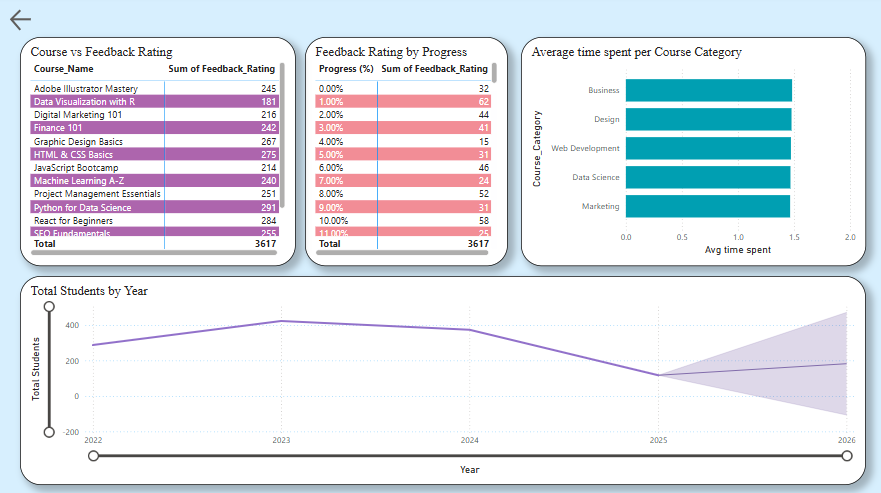

What the dashboard file says about the page in this screenshot:
{"tool":"powerbi","page":{"name":"Ratings","canvas":[1280,720],"ordinal":2},"visuals":[{"type":"clusteredBarChart","title":"Average time spent per Course Category","fields":{"Y":["Sheet1.Avg time spent"],"Category":["Sheet1.Course_Category"]},"box":[753.1,59,496.8,329.8],"z":0},{"type":"pivotTable","title":"Feedback Rating by Progress","fields":{"Values":["Sum(Sheet1.Feedback_Rating)"],"Rows":["Sheet1.Progress (%)"]},"box":[442.1,59,292.3,329.8],"z":1000},{"type":"pivotTable","title":"Course vs Feedback Rating","fields":{"Rows":["Sheet1.Course_Name"],"Values":["Sum(Sheet1.Feedback_Rating)"]},"box":[31.7,59,397.4,329.8],"z":2000},{"type":"lineChart","fields":{"Category":["Sheet1.Enrollment_Date.Variation.Date Hierarchy.Year","Sheet1.Enrollment_Date.Variation.Date Hierarchy.Quarter","Sheet1.Enrollment_Date.Variation.Date Hierarchy.Month","Sheet1.Enrollment_Date.Variation.Date Hierarchy.Day"],"Y":["Sheet1.Total Students"]},"box":[31.7,403.2,1218.2,301],"z":3000},{"type":"actionButton","box":[13,15,85,40.3],"z":3001}]}

Visuals, with their boxes in screenshot pixels (x1, y1, x2, y2), scaled from the page's 1280x720 canvas onto the 881x493 screenshot:
"Average time spent per Course Category" clusteredBarChart: x1=518 y1=40 x2=860 y2=266
"Feedback Rating by Progress" pivotTable: x1=304 y1=40 x2=505 y2=266
"Course vs Feedback Rating" pivotTable: x1=22 y1=40 x2=295 y2=266
lineChart - Sheet1.Enrollment_Date.Variation.Date Hierarchy.Year x Sheet1.Enrollment_Date.Variation.Date Hierarchy.Quarter: x1=22 y1=276 x2=860 y2=482
actionButton: x1=9 y1=10 x2=67 y2=38
